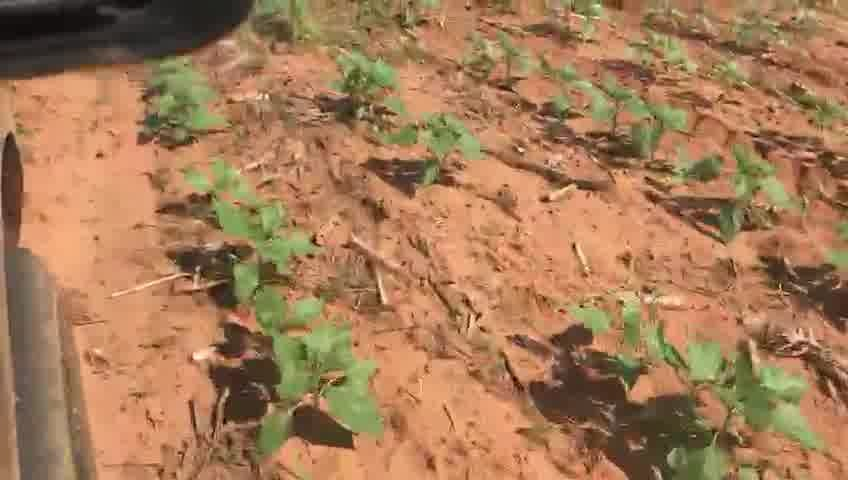sunflower: (662, 336, 828, 471), (256, 328, 382, 457), (555, 296, 669, 394), (713, 136, 798, 248), (219, 200, 315, 299), (390, 111, 487, 195), (630, 102, 704, 186), (143, 75, 218, 153), (225, 283, 331, 337), (330, 46, 401, 125), (179, 150, 250, 222), (467, 32, 533, 84), (587, 75, 634, 141), (539, 65, 590, 116)
